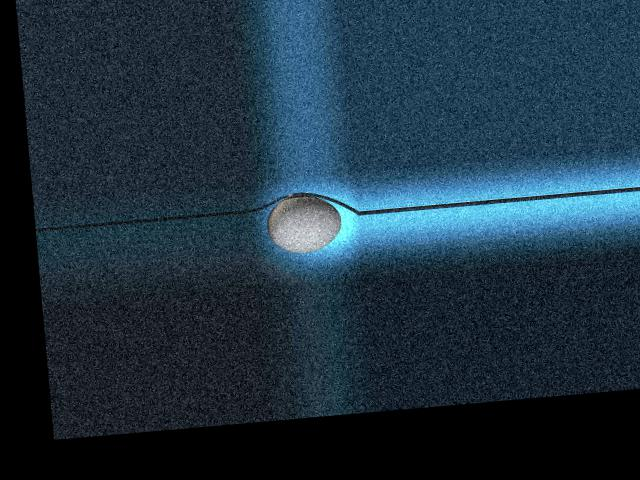egg: (264, 192, 343, 254)
